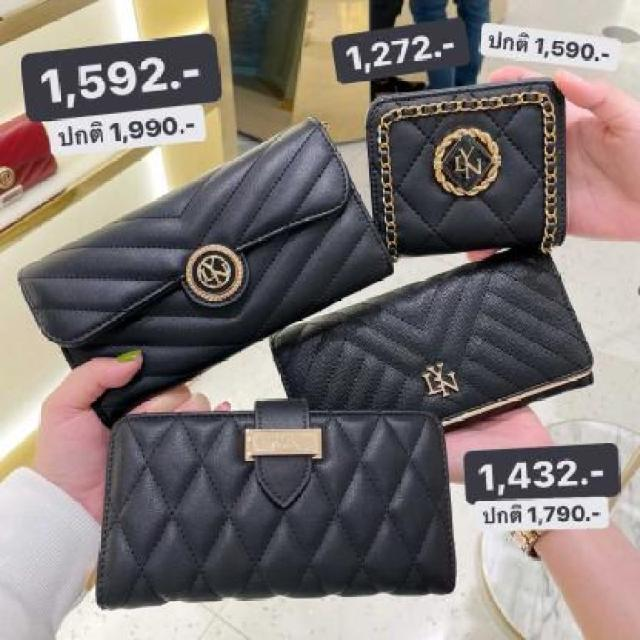Bag: (2, 74, 409, 432), (98, 374, 473, 621), (257, 206, 615, 451), (354, 54, 614, 268)
